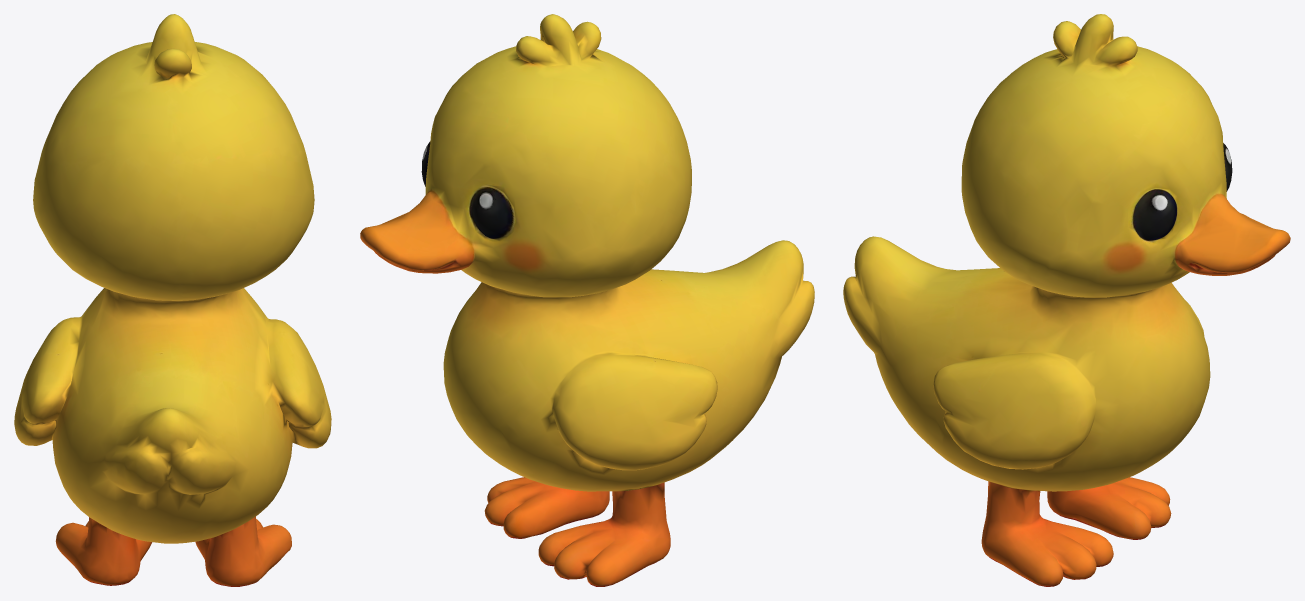
Rendered from duck.glb.
3 renders of one model, left to right at view 1: azimuth 30°, elevation 25°; view 2: azimuth 150°, elevation 25°; view 3: azimuth 270°, elevation 25°, orthographic.
Parts seen in each view (by area): view 1: tripo_node_ff36c580-ab91-4152-8bd4-c73121ff0426; view 2: tripo_node_ff36c580-ab91-4152-8bd4-c73121ff0426; view 3: tripo_node_ff36c580-ab91-4152-8bd4-c73121ff0426.
Part boxes in pixels (box(x1,y1,x2,y2)): tripo_node_ff36c580-ab91-4152-8bd4-c73121ff0426: box(14, 14, 331, 586); tripo_node_ff36c580-ab91-4152-8bd4-c73121ff0426: box(360, 14, 814, 586); tripo_node_ff36c580-ab91-4152-8bd4-c73121ff0426: box(843, 14, 1290, 586).
Size of the model in its own units: 0.1063 by 0.2 by 0.1527.
Materials: 1 (1 with a texture image).
